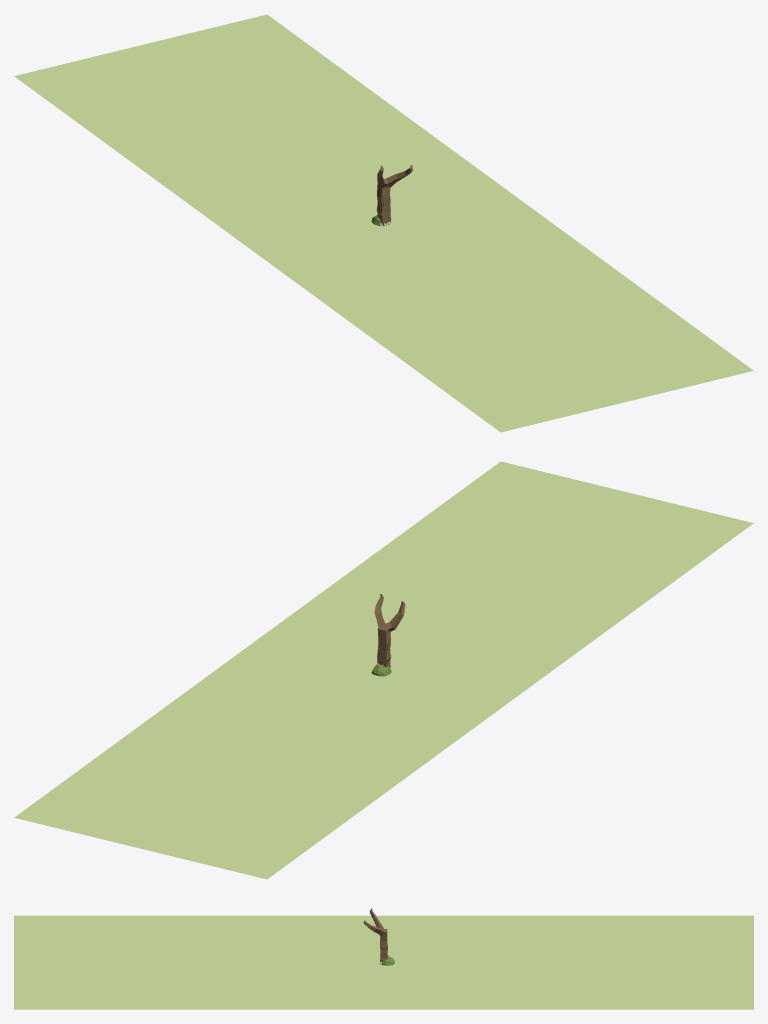
Rendered from meshes angry bird.fbx.
3 renders of one model, top to bottom at view 1: azimuth 30°, elevation 25°; view 2: azimuth 150°, elevation 25°; view 3: azimuth 270°, elevation 25°, orthographic. The views are drawn at different scales.
Visible parts, largest first — view 1: Grid; view 2: Grid; view 3: Grid, Cube.003.
Boxes of the visible parts, <box> form: Grid: <box>14,14,753,432</box>; Grid: <box>14,461,753,879</box>; Grid: <box>14,915,753,1009</box>; Cube.003: <box>363,908,387,962</box>.
Size of the model in its own units: 25.1 by 10.27 by 83.58.
